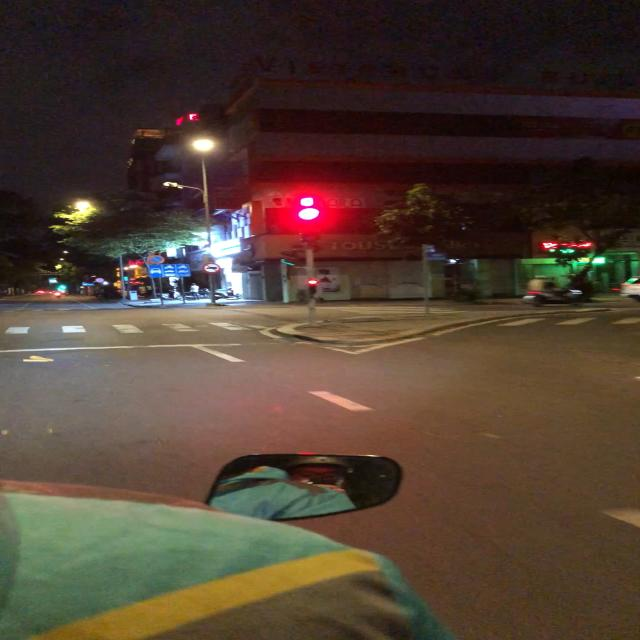Bien bao cam do xe: (146, 254, 166, 264)
Bien bao cam xe so-mi ro-mooc: (201, 261, 223, 274)
